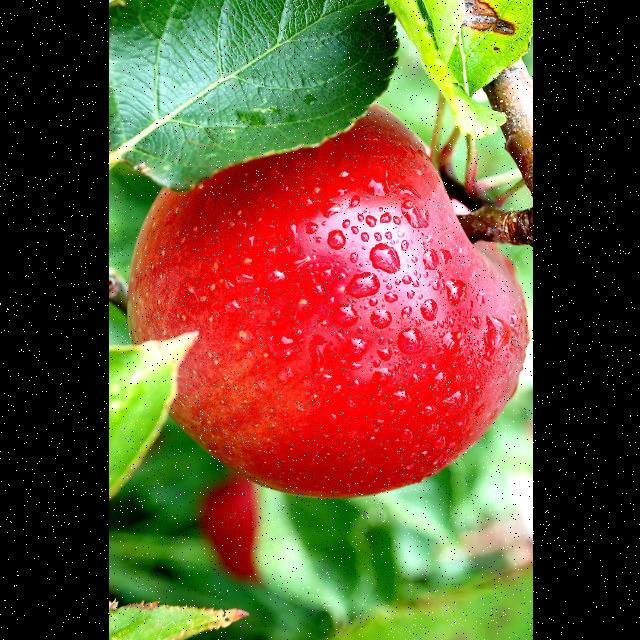Apel Segar: (108, 89, 532, 517)
